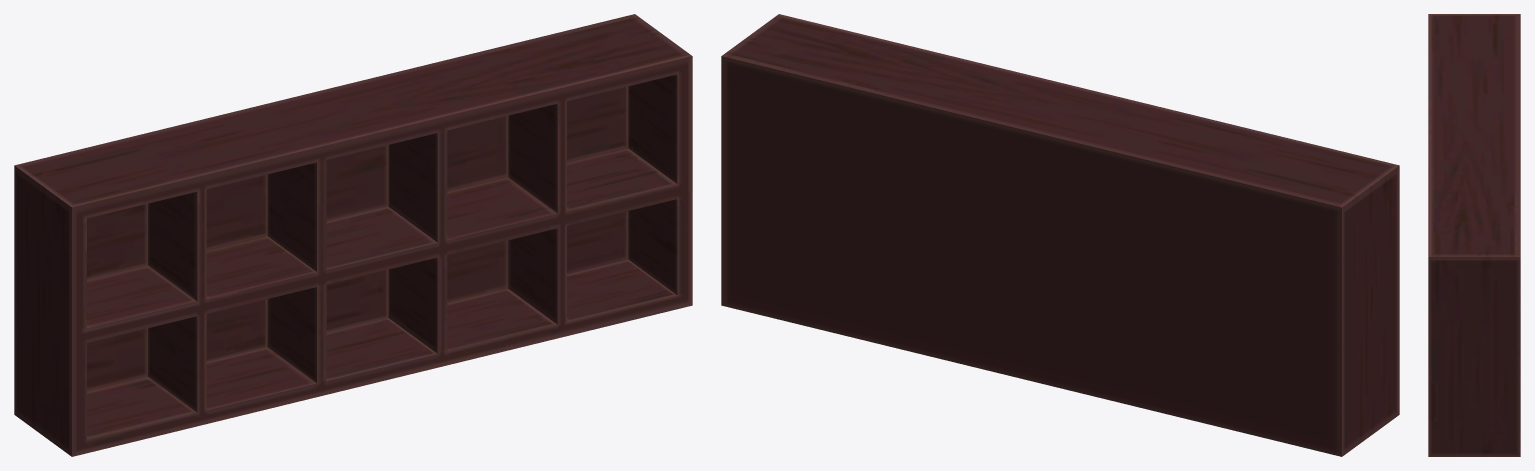
File: BagShelf.fbx
The picture shows the model from 3 angles, left to right: view 1: azimuth 30°, elevation 25°; view 2: azimuth 150°, elevation 25°; view 3: azimuth 270°, elevation 25°; orthographic projection. The views are drawn at different scales.
Visible parts, largest first — view 1: Cube.002; view 2: Cube.002; view 3: Cube.002.
Part boxes in pixels (x1,y1,x2,y2): Cube.002: (14, 14, 692, 456); Cube.002: (721, 14, 1399, 456); Cube.002: (1428, 14, 1520, 456).
Bounding box in the file's own units: 7973 × 3062 × 1282.
